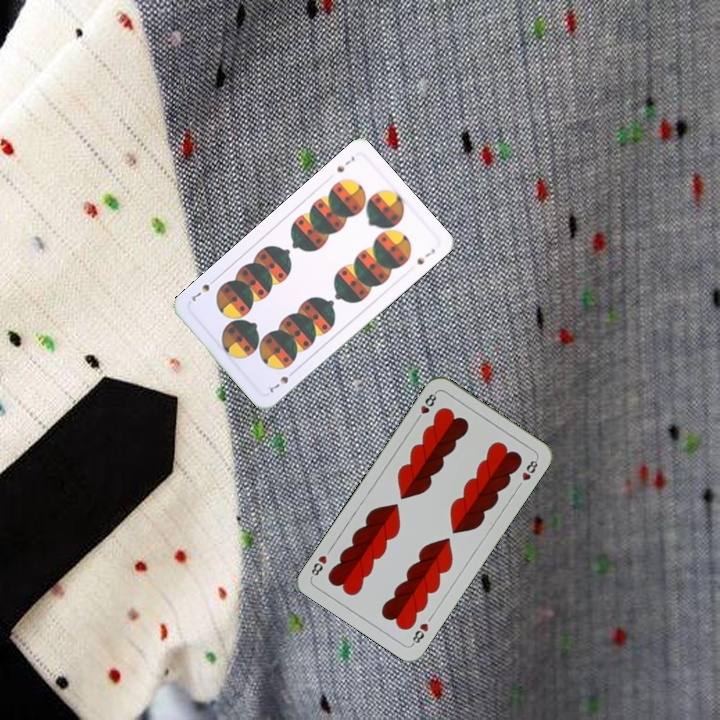H8: (412, 388, 440, 424), (408, 619, 431, 648)
S7: (265, 366, 298, 396), (333, 152, 357, 175)
